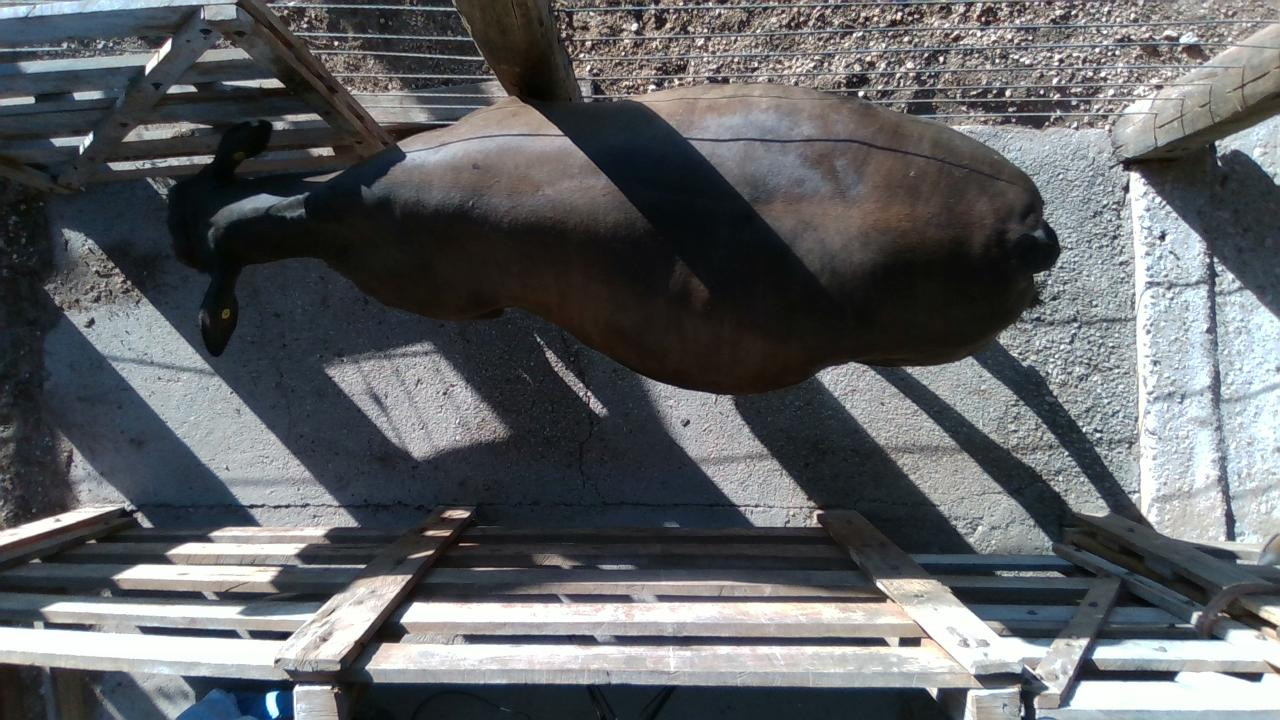cattle: (165, 80, 1061, 397)
